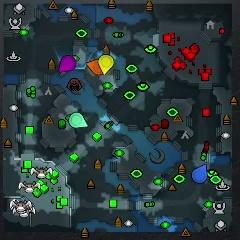p1: (193, 163, 208, 183)
p2: (70, 112, 87, 128)
p3: (59, 55, 76, 72)
p4: (99, 55, 113, 75)
p5: (86, 60, 103, 75)
